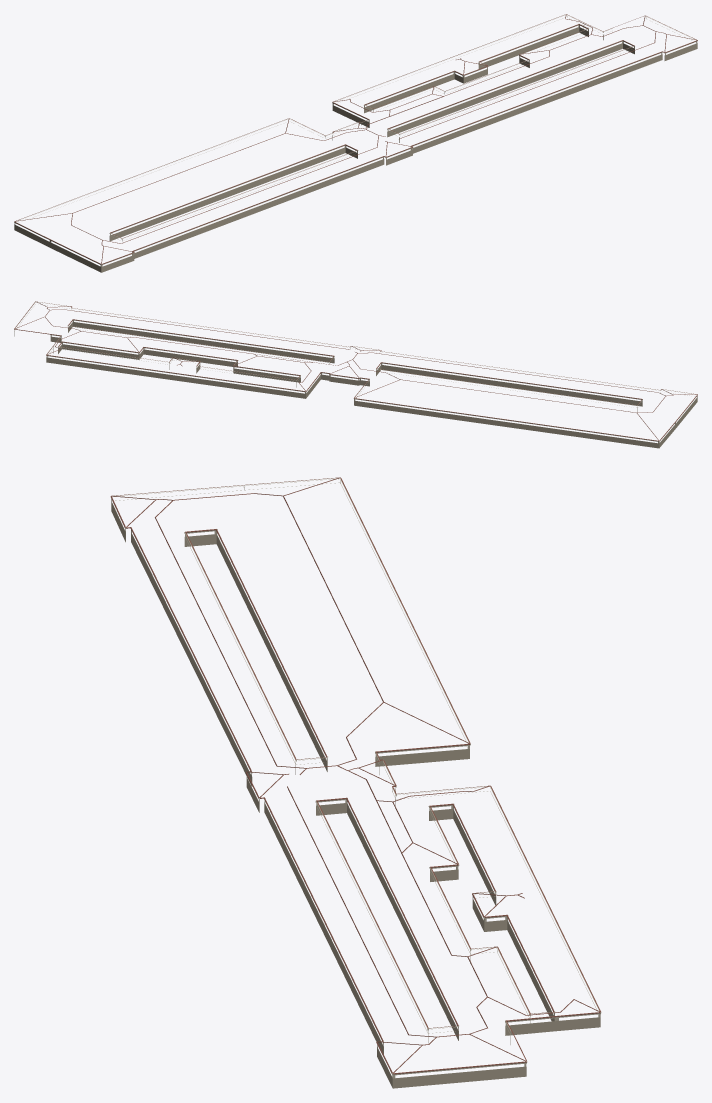
3 renders of one model, top to bottom at view 1: azimuth 30°, elevation 25°; view 2: azimuth 150°, elevation 25°; view 3: azimuth 270°, elevation 25°, orthographic. The views are drawn at different scales.
Parts seen in each view (by area): view 1: detail; view 2: detail; view 3: detail.
Part boxes in pixels (x1,y1,x2,y2): detail: [14, 14, 697, 272]; detail: [14, 301, 697, 448]; detail: [110, 477, 601, 1088].
Size of the model in its own units: 405 by 10.41 by 141.
